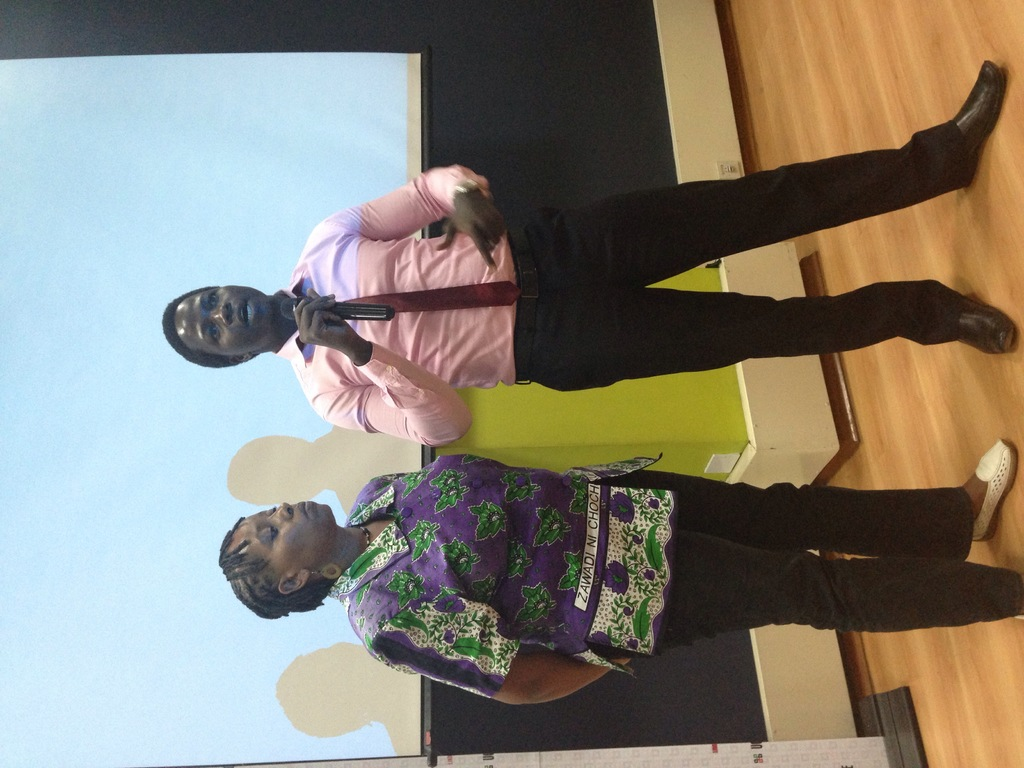Human_hand: (436, 191, 504, 265), (291, 286, 358, 352)
